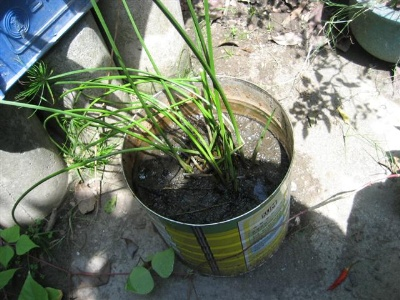bottle: (120, 74, 295, 279)
